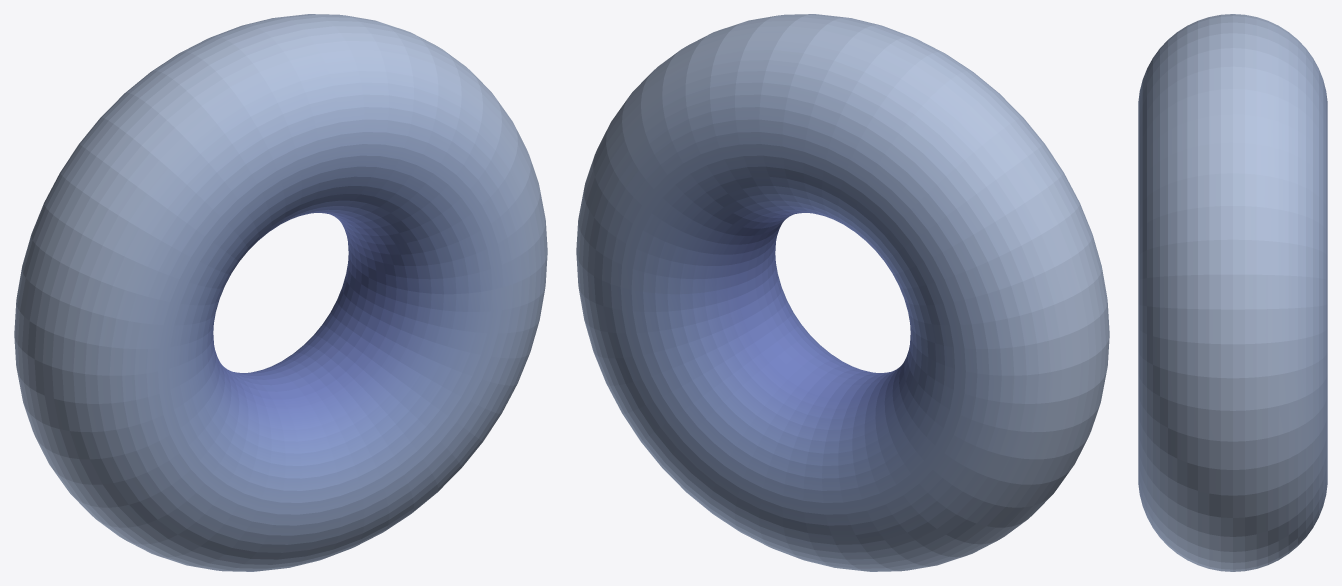
3 views of the same model, side by side, from view 1: azimuth 30°, elevation 25°; view 2: azimuth 150°, elevation 25°; view 3: azimuth 270°, elevation 25° (orthographic). The views are drawn at different scales.
Parts seen in each view (by area): view 1: world; view 2: world; view 3: world.
Boxes of the visible parts, x1=… form: world: x1=14, y1=14, x2=547, y2=571; world: x1=576, y1=14, x2=1109, y2=571; world: x1=1138, y1=14, x2=1327, y2=571.
Size of the model in its own units: 19.2 by 19.16 by 6.52.
